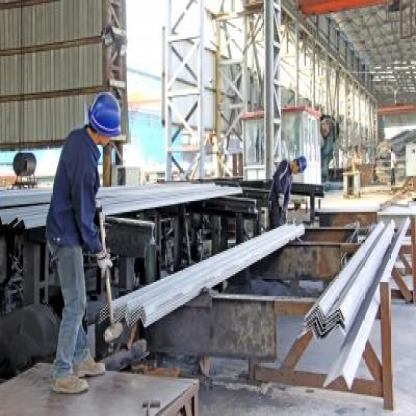helmet: (85, 88, 125, 146), (288, 151, 311, 179)
